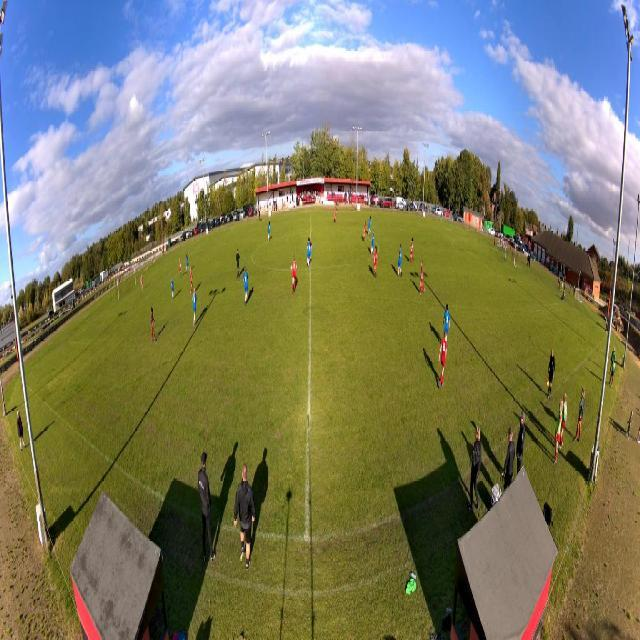ball: (180, 263, 182, 268)
player: (437, 330, 448, 390), (443, 303, 451, 358), (291, 254, 298, 295), (242, 265, 248, 306), (150, 305, 156, 343), (397, 242, 403, 278), (420, 261, 426, 297), (193, 286, 198, 328), (307, 237, 313, 269), (373, 245, 378, 279), (236, 247, 241, 281), (370, 228, 375, 257), (410, 237, 415, 264), (189, 265, 193, 296), (171, 276, 175, 301), (368, 215, 372, 237), (267, 220, 271, 242), (363, 220, 367, 241), (186, 253, 190, 274), (140, 273, 144, 292), (333, 206, 337, 223), (179, 258, 182, 279), (504, 246, 507, 265)
